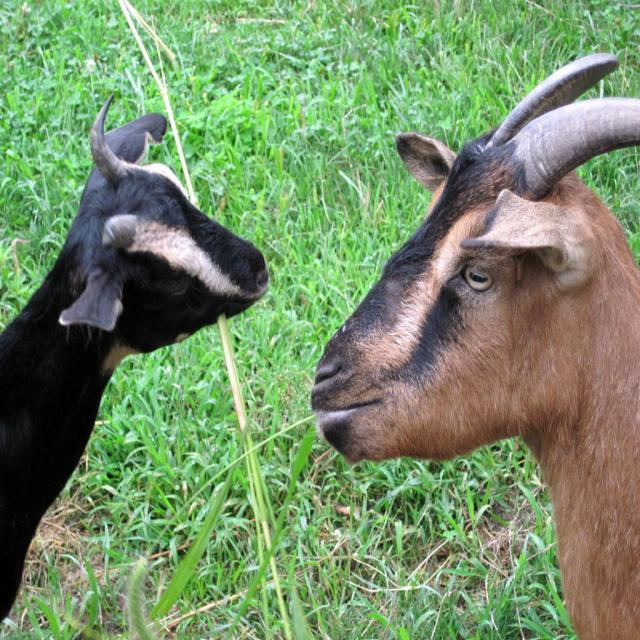Goat: (304, 49, 640, 640), (0, 87, 269, 626)
